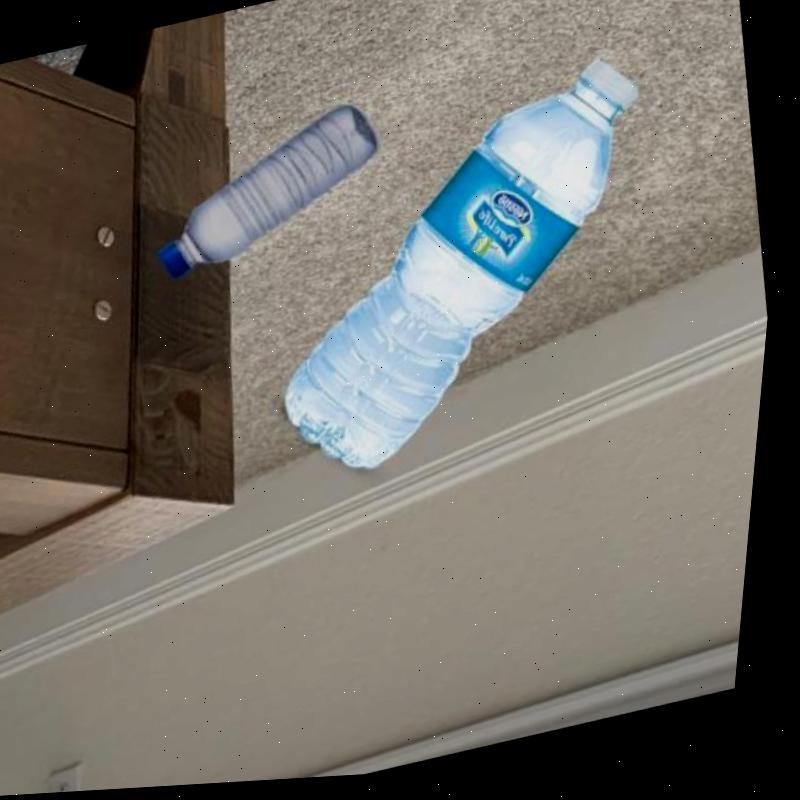botella: (233, 51, 700, 495), (145, 103, 397, 282)
